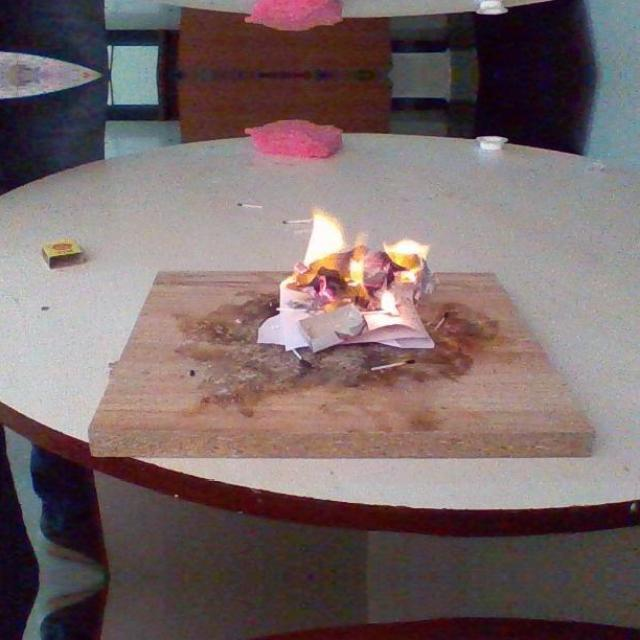smoke: (288, 210, 368, 298), (376, 235, 434, 288)
